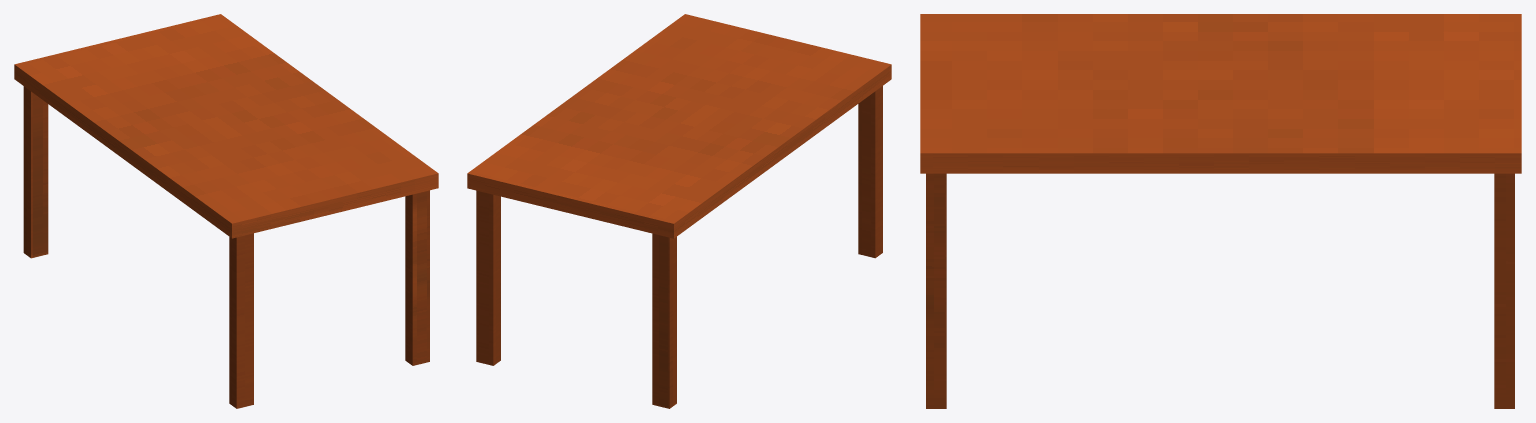
Rendered from table2.glb.
3 views of the same model, side by side, from view 1: azimuth 30°, elevation 25°; view 2: azimuth 150°, elevation 25°; view 3: azimuth 270°, elevation 25° (orthographic). The views are drawn at different scales.
Visible parts, largest first — view 1: Cube; view 2: Cube; view 3: Cube.
Boxes of the visible parts, <box> form: Cube: <box>14,14,438,408</box>; Cube: <box>467,14,891,408</box>; Cube: <box>920,14,1521,408</box>.
Bounding box in the file's own units: 2.02 × 1.76 × 3.68.
1 material, 1 textured.
